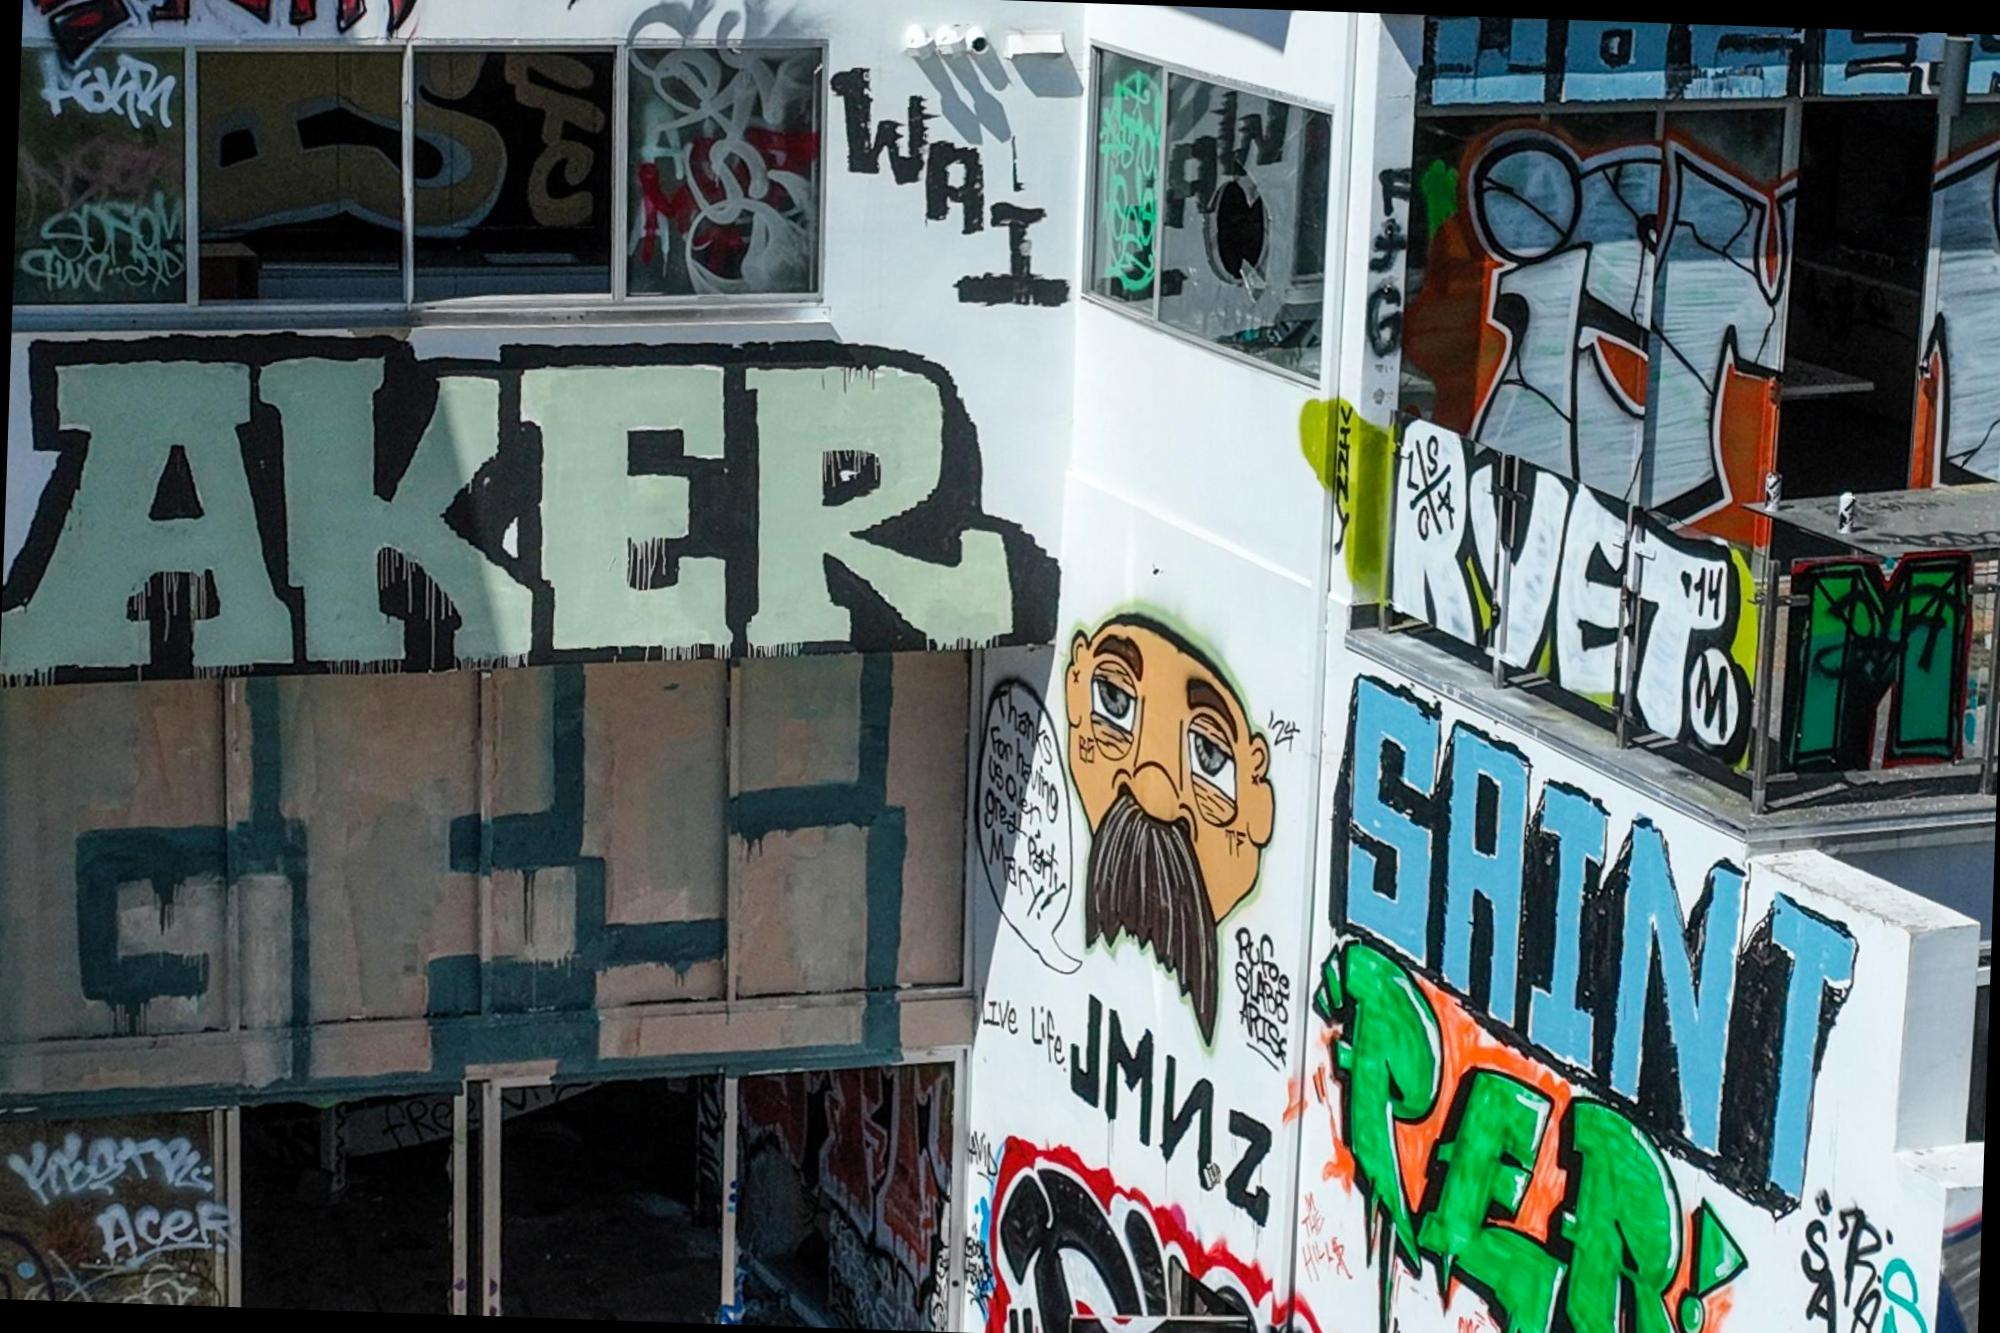graffiti: (0, 659, 970, 1095), (4, 326, 1063, 702), (1312, 675, 1869, 1207), (1303, 931, 1753, 1333), (1432, 118, 1828, 568), (12, 21, 614, 312), (1368, 412, 1825, 753), (1039, 613, 1295, 1025), (967, 994, 1322, 1212), (949, 1134, 1331, 1333), (700, 1050, 944, 1332), (613, 0, 834, 305), (825, 67, 1080, 330), (1775, 536, 1982, 812), (959, 665, 1096, 986), (0, 1131, 254, 1271), (1755, 1192, 1982, 1333), (1081, 55, 1178, 345), (21, 0, 431, 57), (12, 182, 192, 295), (1169, 86, 1291, 245), (1213, 918, 1310, 1052), (18, 57, 180, 123)
